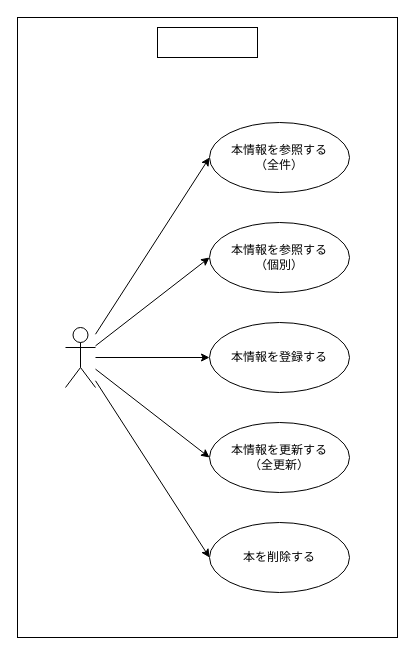
Some shapes in this 415 by 655 pixel diagram are drawn without their labels. Each missing label, with the centre of its shape:
"本棚管理システム" goes at point 207,42.
"本棚管理者" goes at point 80,357.
